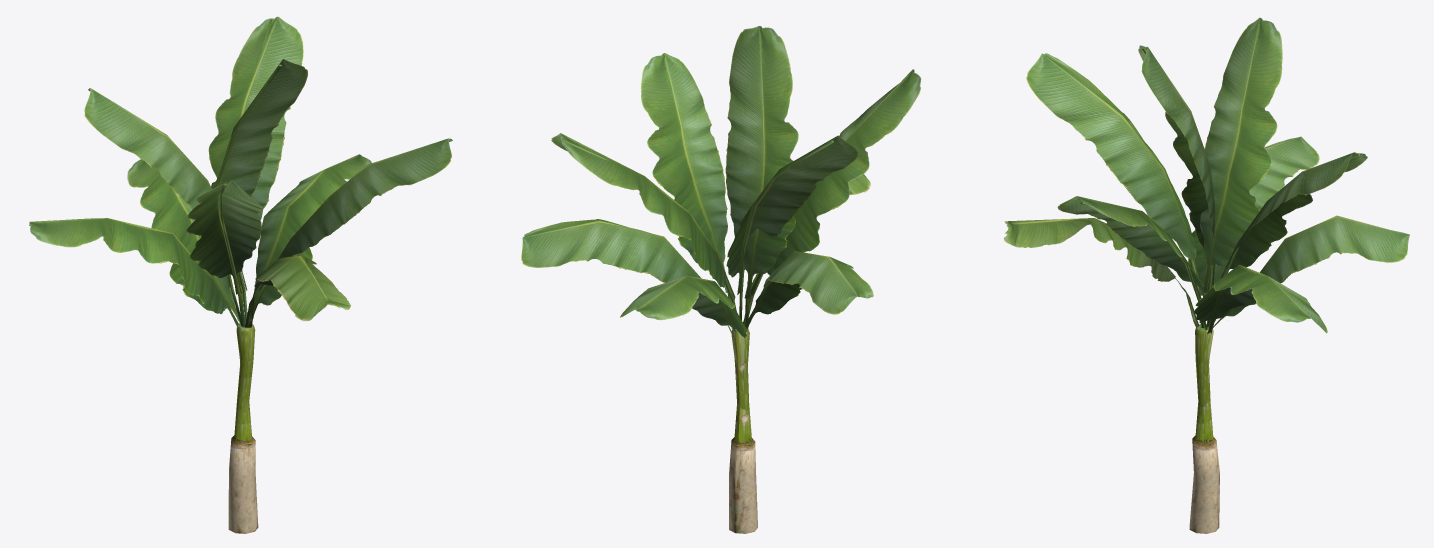
File: bananatree version2.dae
The picture shows the model from 3 angles, left to right: view 1: azimuth 30°, elevation 25°; view 2: azimuth 150°, elevation 25°; view 3: azimuth 270°, elevation 25°; orthographic projection.
Visible parts, largest first — view 1: bananatree_two_Group7_Form31, bananatree_two_Group7_Group7_Form31, bananatree_two_Group7_Form34, bananatree_two_Group7_Group7_Shape0; view 2: bananatree_two_Group7_Group7_Form31, bananatree_two_Group7_Form31, bananatree_two_Group7_Form34, bananatree_two_Group7_Group7_Shape0; view 3: bananatree_two_Group7_Group7_Form31, bananatree_two_Group7_Form31, bananatree_two_Group7_Form34.
Part boxes in pixels (left/top/right/bottom): bananatree_two_Group7_Form31: left=29, top=138, right=451, bottom=327; bananatree_two_Group7_Group7_Form31: left=84, top=16, right=307, bottom=294; bananatree_two_Group7_Form34: left=228, top=323, right=258, bottom=533; bananatree_two_Group7_Group7_Shape0: left=88, top=19, right=281, bottom=326; bananatree_two_Group7_Group7_Form31: left=551, top=26, right=921, bottom=299; bananatree_two_Group7_Form31: left=521, top=53, right=873, bottom=337; bananatree_two_Group7_Form34: left=729, top=328, right=757, bottom=533; bananatree_two_Group7_Group7_Shape0: left=561, top=139, right=833, bottom=324; bananatree_two_Group7_Group7_Form31: left=1026, top=17, right=1367, bottom=292; bananatree_two_Group7_Form31: left=1004, top=136, right=1409, bottom=333; bananatree_two_Group7_Form34: left=1189, top=324, right=1219, bottom=533.
Size of the model in its own units: 151 by 181 by 145.
Materials: 2 (2 with a texture image).
